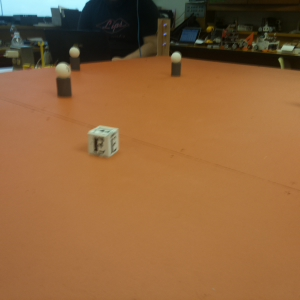blockE: (87, 125, 120, 158)
corner: (156, 17, 170, 58)
obstacle: (55, 63, 72, 98), (170, 52, 183, 78), (68, 45, 81, 71)
